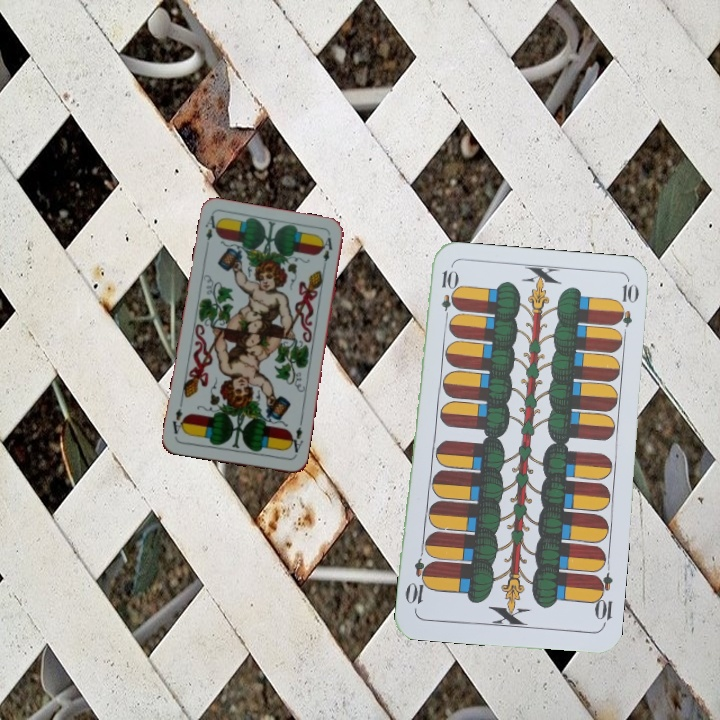E10: (589, 570, 615, 629), (437, 266, 457, 325)
EA: (285, 418, 306, 459), (201, 212, 222, 252)
